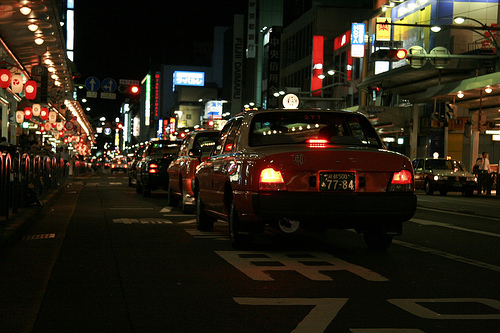car: (191, 99, 420, 247)
